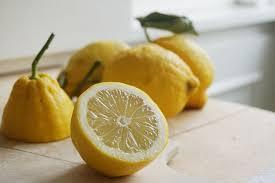lemon: (70, 81, 170, 177), (90, 44, 200, 117), (2, 73, 74, 141), (58, 40, 131, 98), (153, 34, 214, 90)
